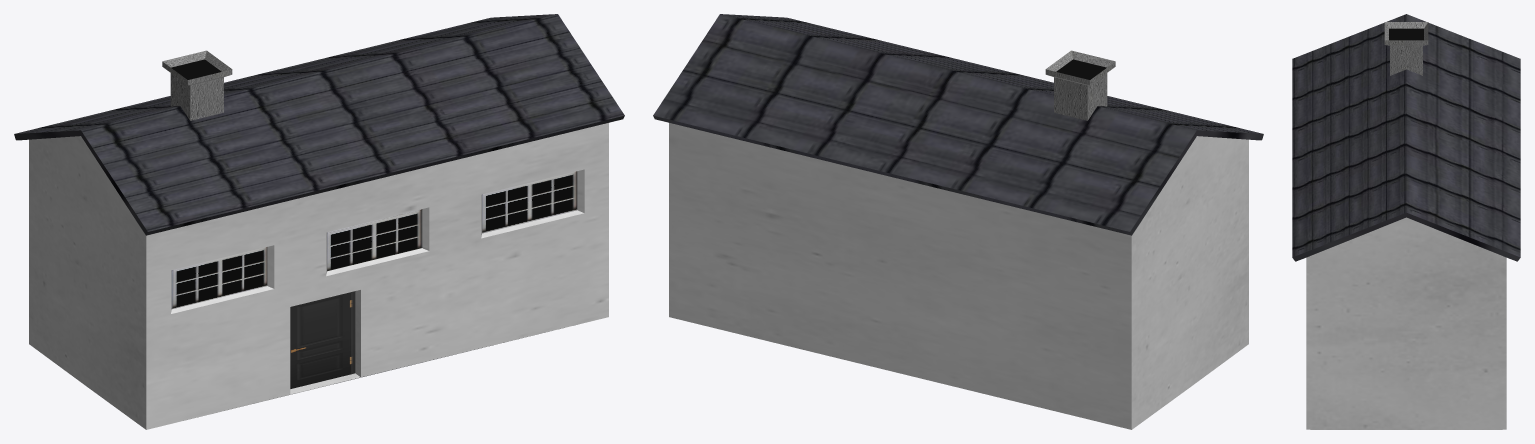
Rendered from building1.fbx.
3 views of the same model, side by side, from view 1: azimuth 30°, elevation 25°; view 2: azimuth 150°, elevation 25°; view 3: azimuth 270°, elevation 25° (orthographic). The views are drawn at different scales.
Parts seen in each view (by area): view 1: Cube; view 2: Cube; view 3: Cube.
Part boxes in pixels (x1,y1,x2,y2): Cube: (14, 14, 624, 429); Cube: (653, 14, 1263, 429); Cube: (1292, 14, 1520, 429).
Bounding box in the file's own units: 952 × 563 × 463.
2 materials, 2 textured.
